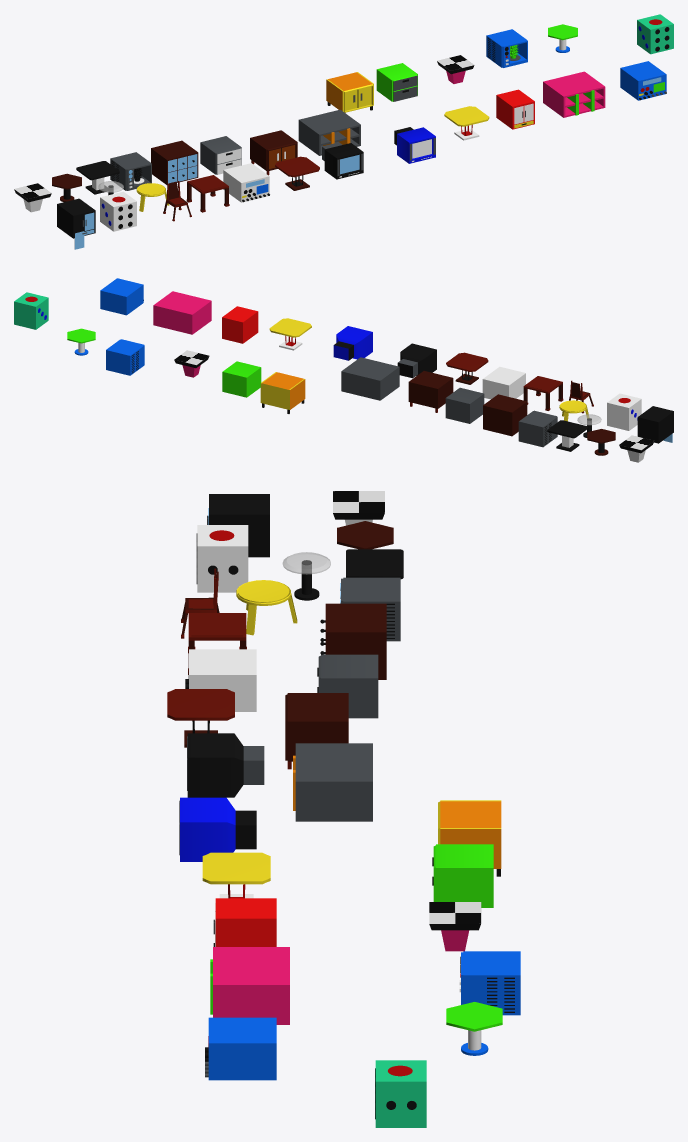
File: New Hurdles.FBX
3 views of the same model, one above another, from view 1: azimuth 30°, elevation 25°; view 2: azimuth 150°, elevation 25°; view 3: azimuth 270°, elevation 25° (orthographic). The views are drawn at different scales.
Visible parts, largest first — view 1: Shoe Rack 2, Shoe Rack 1, 6 Drawer Rack, Cabinet Yelow, Deck Blue, Cabinet Wood, Deck White, Owwen 2, Files Drawer 2, Tv Black, Tv Blue, Safe Almari 2 (+15 smaller); view 2: Shoe Rack 1, Shoe Rack 2, 6 Drawer Rack, Cabinet Yelow, Cabinet Wood, Deck Blue, Files Drawer 2, Owwen 2, Files Drawer, Deck White, Safe Almari 2, Tv Blue (+15 smaller); view 3: Shoe Rack 1, Shoe Rack 2, Deck Blue, Tv Black, Tv Blue, Files Drawer 2, Gita 2, 6 Drawer Rack, Owwen 2, Cabinet Wood, Gita, Deck White (+15 smaller).
Boxes of the visible parts, x1,y1,x2,y2 form: Shoe Rack 2: (543,71,605,117); Shoe Rack 1: (298,109,360,155); 6 Drawer Rack: (151,140,198,184); Cabinet Yelow: (326,72,373,112); Deck Blue: (620,61,666,100); Cabinet Wood: (250,130,297,175); Deck White: (223,163,269,202); Owwen 2: (486,29,527,67); Files Drawer 2: (376,63,417,101); Tv Black: (322,142,363,179); Tv Blue: (394,127,435,163); Safe Almari 2: (496,89,534,129); Shoe Rack 1: (341,357,399,400); Shoe Rack 2: (153,291,211,334); 6 Drawer Rack: (483,394,527,436); Cabinet Yelow: (260,372,305,413); Cabinet Wood: (408,371,453,412); Deck Blue: (100,278,143,315); Files Drawer 2: (222,361,261,397); Owwen 2: (106,339,144,375); Files Drawer: (445,387,484,423); Deck White: (482,366,525,399); Safe Almari 2: (222,306,258,343); Tv Blue: (333,326,372,360); Shoe Rack 1: (293,743,372,821); Shoe Rack 2: (210,947,289,1024); Deck Blue: (205,1017,276,1080); Tv Black: (187,733,264,797); Tv Blue: (179,797,256,861); Files Drawer 2: (432,844,493,907); Gita 2: (375,1060,426,1127); 6 Drawer Rack: (320,603,386,679); Owwen 2: (459,951,520,1015); Cabinet Wood: (285,693,348,769); Gita: (196,525,248,592); Deck White: (185,649,256,711).
Bounding box in the file's own units: 420 × 25.31 × 104.
18 materials, 1 textured.
